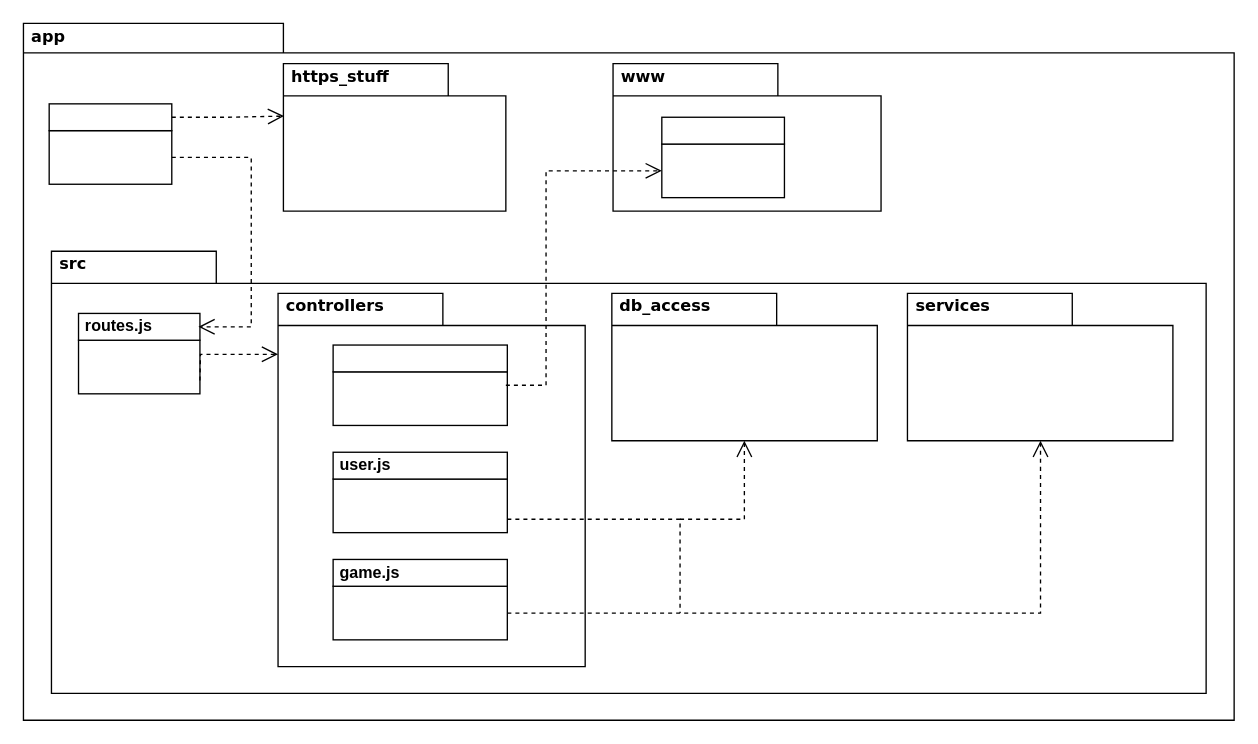
Image size: 1258x744. Some labels were removed from this diagram. The shapes that lost their labels are listed below. From the top down, each one's centre as x and y in pixels, then its label:
the point at 110,117: index.js
the point at 722,130: index.html
the point at 419,358: webPageSender.js
